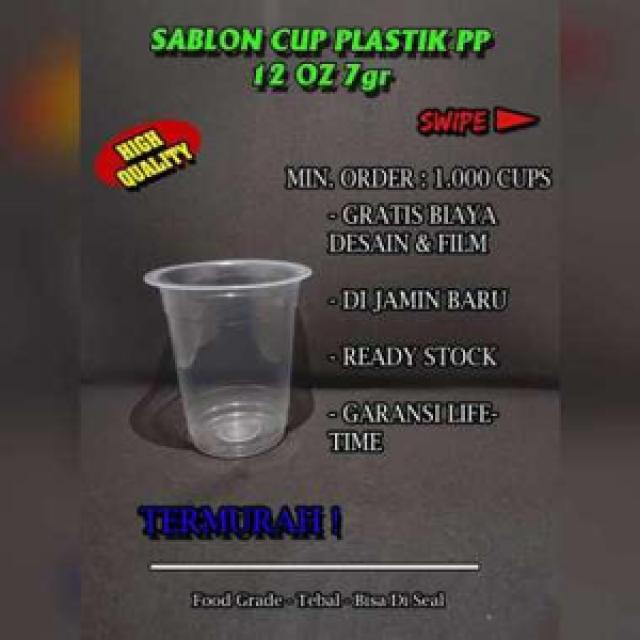plastic cup: (134, 250, 318, 463)
